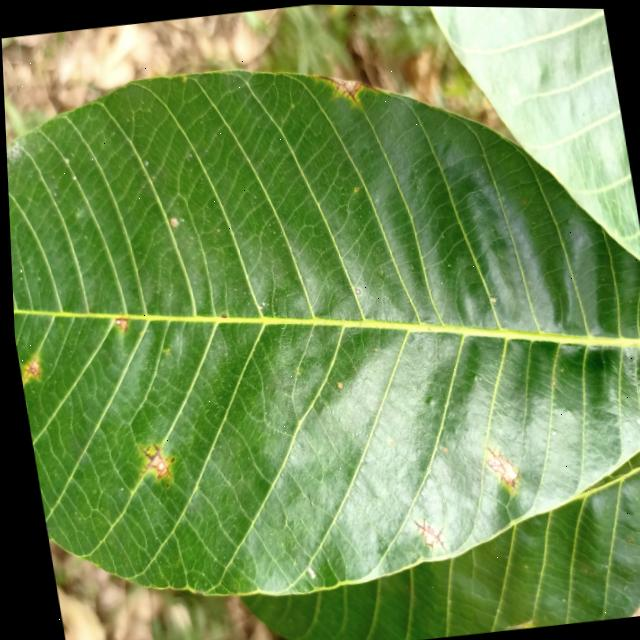Colletotrichum: (351, 285, 359, 293)
Corynespora: (478, 440, 518, 489), (406, 512, 444, 555), (133, 440, 172, 480), (317, 70, 359, 105), (15, 355, 41, 387)
Leaf-Blight: (330, 73, 357, 90)
